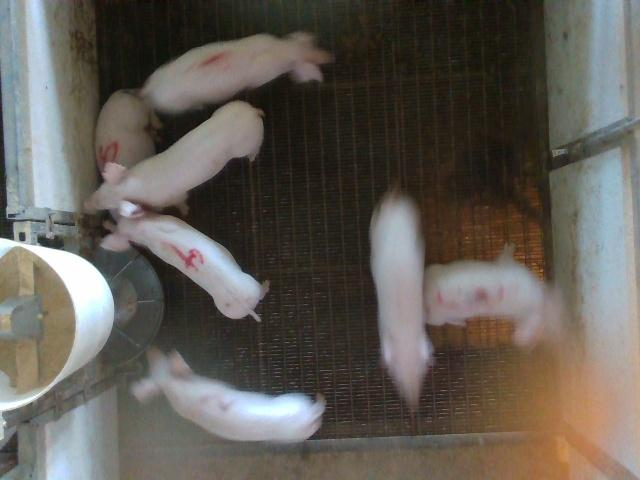pig-1: (140, 31, 332, 113)
pig-2: (131, 348, 325, 442)
pig-3: (422, 245, 559, 346)
pig-4: (101, 211, 269, 321)
pig-5: (95, 91, 160, 172)
